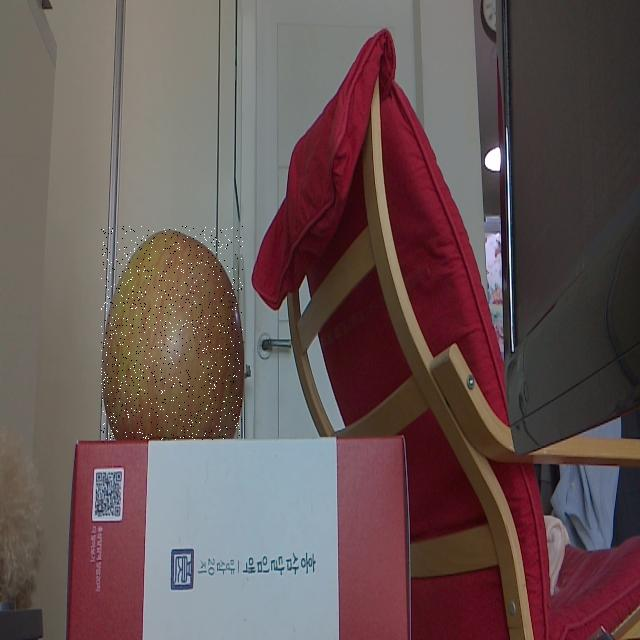apple: (101, 226, 243, 440)
